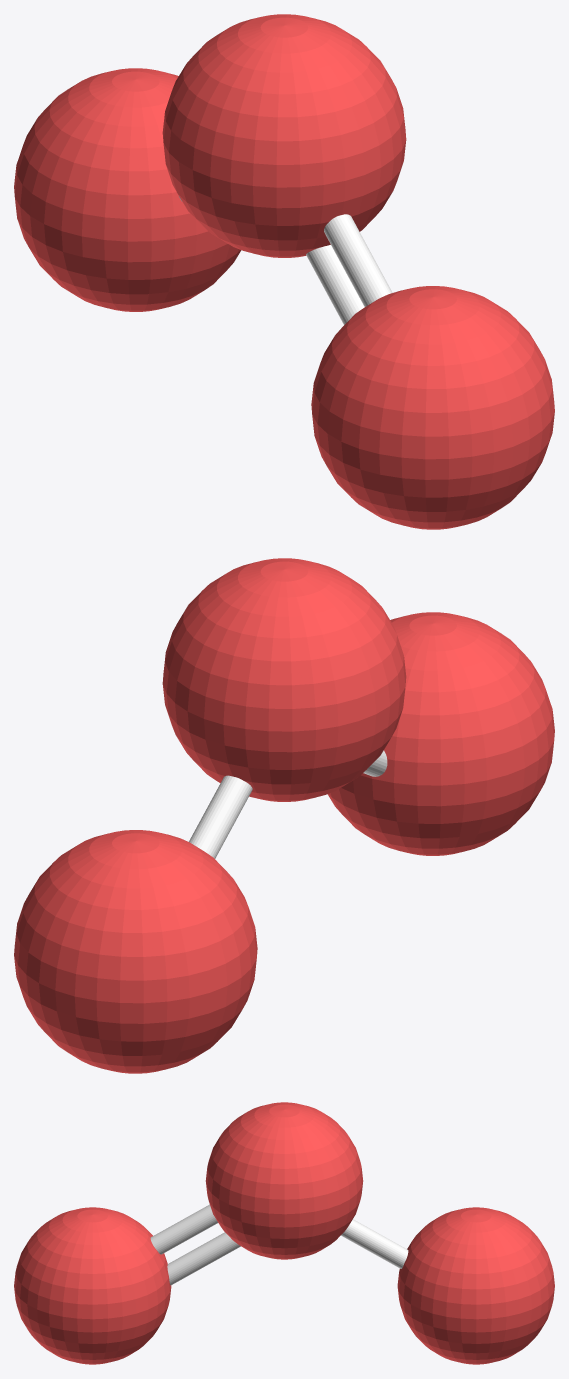
3 renders of one model, top to bottom at view 1: azimuth 30°, elevation 25°; view 2: azimuth 150°, elevation 25°; view 3: azimuth 270°, elevation 25°, orthographic. The views are drawn at different scales.
Visible parts, largest first — view 1: 구체.001; view 2: 구체.001; view 3: 구체.001.
Part boxes in pixels (left/top/right/bottom): 구체.001: left=14, top=14, right=554, bottom=529; 구체.001: left=14, top=558, right=554, bottom=1073; 구체.001: left=14, top=1102, right=554, bottom=1364.
Bounding box in the file's own units: 197 × 342 × 677.
